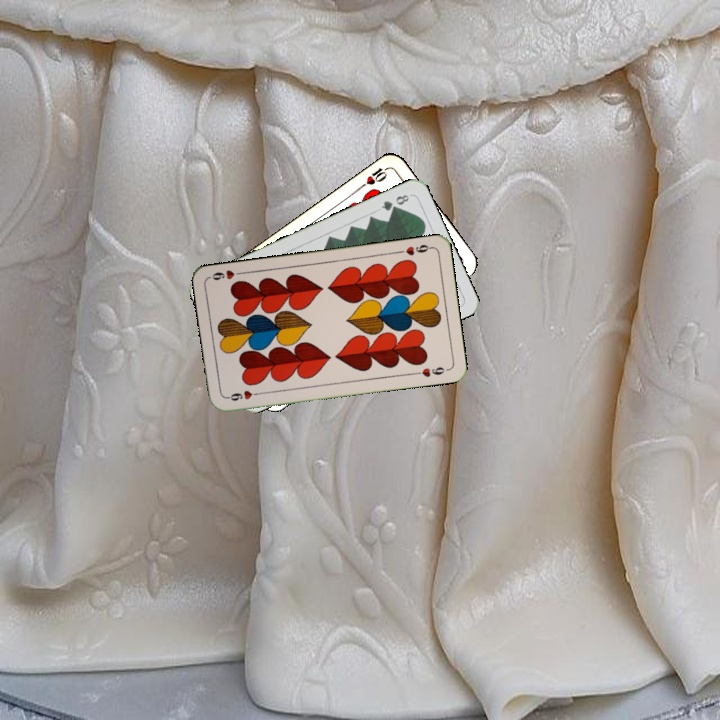G8: (377, 190, 413, 214)
H10: (356, 163, 392, 190)
H9: (394, 240, 434, 258), (223, 386, 263, 403)
